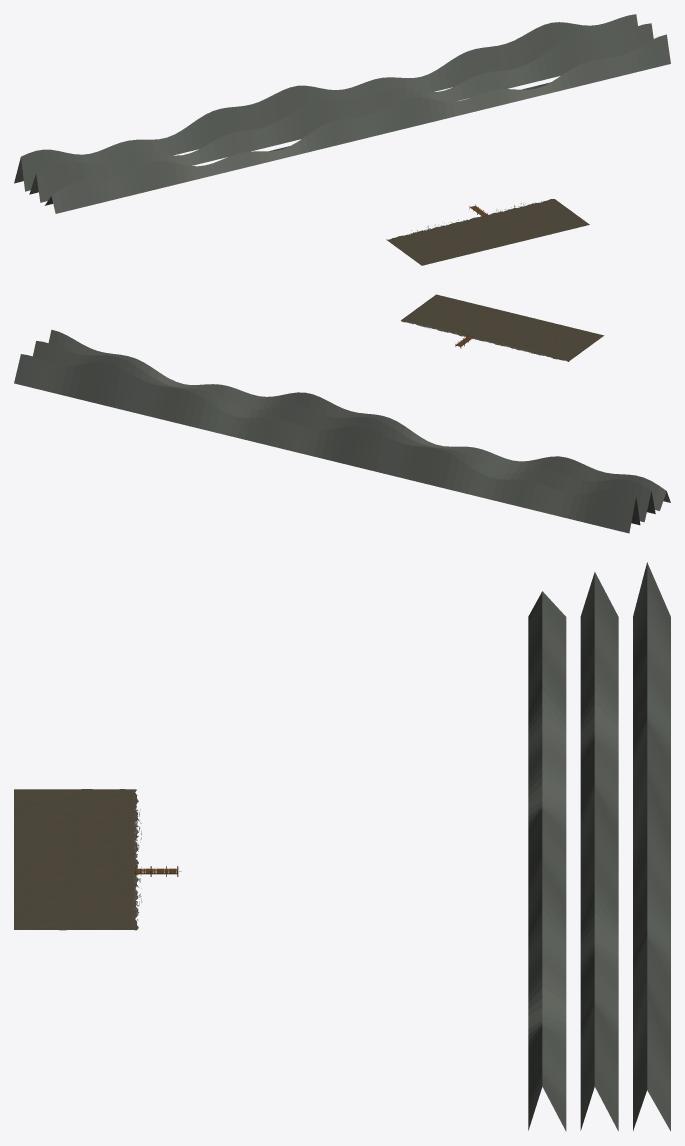
File: LakesideShore.fbx
3 views of the same model, one above another, from view 1: azimuth 30°, elevation 25°; view 2: azimuth 150°, elevation 25°; view 3: azimuth 270°, elevation 25° (orthographic). The views are drawn at different scales.
Parts seen in each view (by area): view 1: CinemaStone_Mesh, CinemaShore_Mesh; view 2: CinemaStone_Mesh, CinemaShore_Mesh; view 3: CinemaStone_Mesh, CinemaShore_Mesh.
Part boxes in pixels (x1,y1,x2,y2): CinemaStone_Mesh: [14, 14, 670, 236]; CinemaShore_Mesh: [386, 199, 589, 265]; CinemaStone_Mesh: [14, 323, 670, 533]; CinemaShore_Mesh: [401, 294, 604, 361]; CinemaStone_Mesh: [133, 562, 670, 1131]; CinemaShore_Mesh: [14, 789, 138, 930].
Bounding box in the file's own units: 256 × 14.48 × 138.
